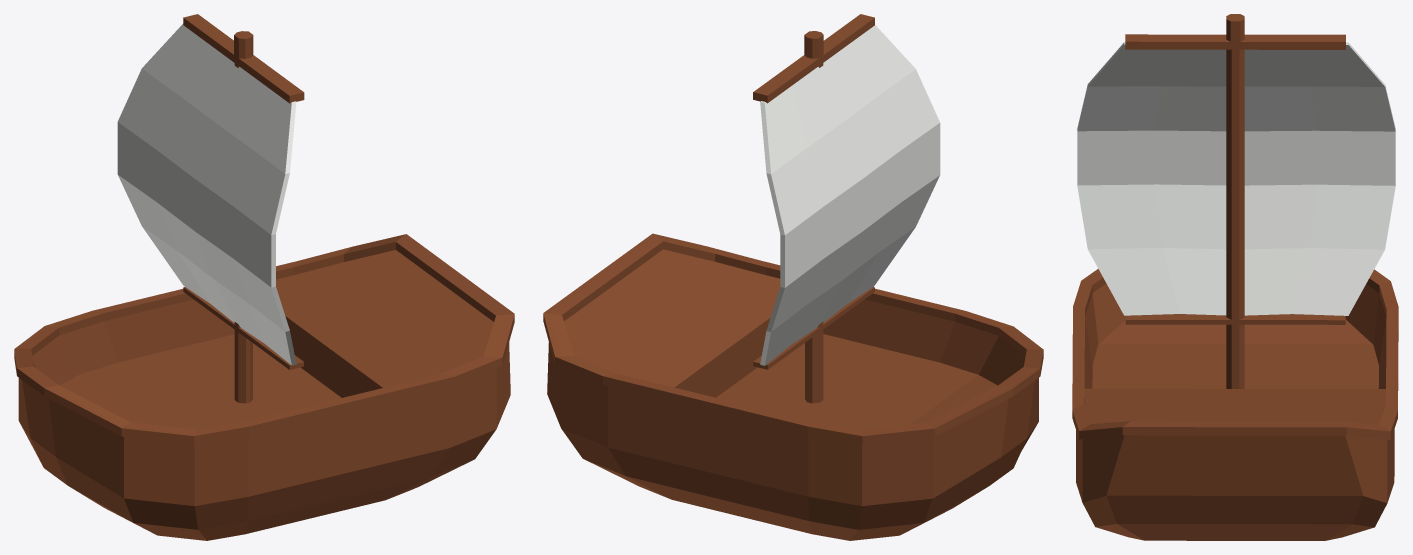
Rendered from ship1.glb.
3 views of the same model, side by side, from view 1: azimuth 30°, elevation 25°; view 2: azimuth 150°, elevation 25°; view 3: azimuth 270°, elevation 25° (orthographic). The views are drawn at different scales.
Parts seen in each view (by area): view 1: ship1; view 2: ship1; view 3: ship1.
Boxes of the visible parts, box(x1,y1,x2,y2) form: ship1: box(14, 14, 514, 540); ship1: box(543, 14, 1043, 540); ship1: box(1072, 14, 1398, 540).
Size of the model in its own units: 3.21 by 3.19 by 2.05.
1 material, 1 textured.
